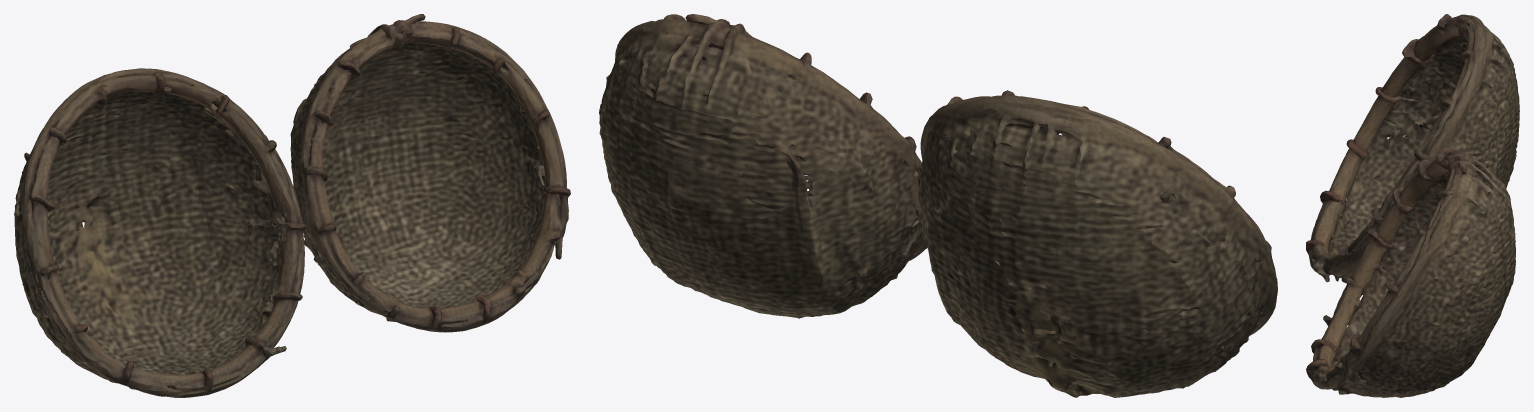
Rendered from sieve_basket.glb.
3 views of the same model, side by side, from view 1: azimuth 30°, elevation 25°; view 2: azimuth 150°, elevation 25°; view 3: azimuth 270°, elevation 25° (orthographic). The views are drawn at different scales.
Visible parts, largest first — view 1: world; view 2: world; view 3: world.
Boxes of the visible parts, x1,y1,x2,y2 form: world: (14,14,570,397); world: (599,14,1277,397); world: (1306,14,1519,397).
Bounding box in the file's own units: 0.45 × 0.2184 × 0.1754.
1 material, 1 textured.
